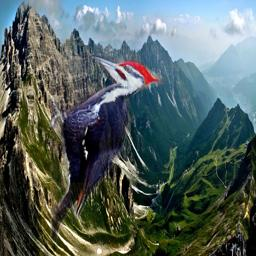Woodpecker: (50, 55, 166, 246)
